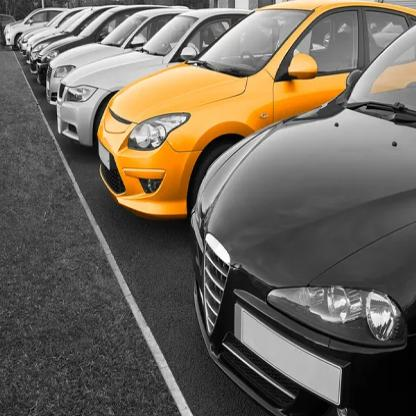car: (190, 73, 416, 415), (93, 36, 265, 216)
